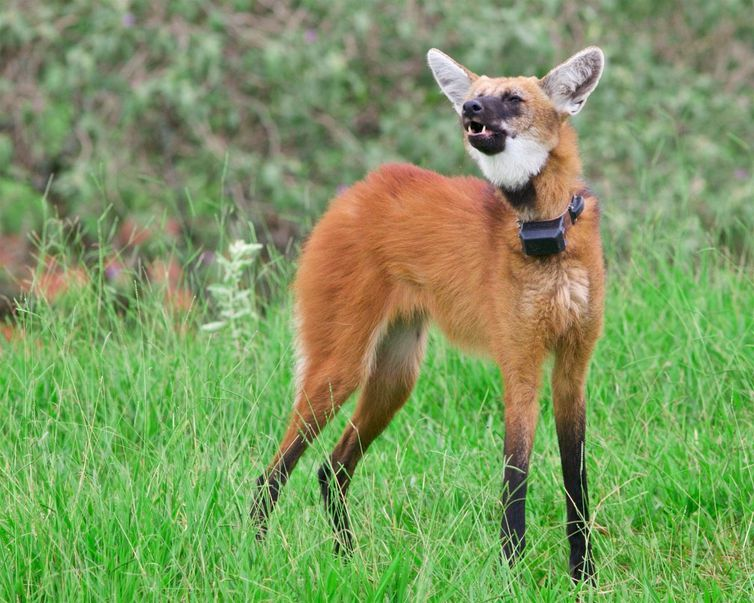LoboGuara: (247, 41, 621, 588)
